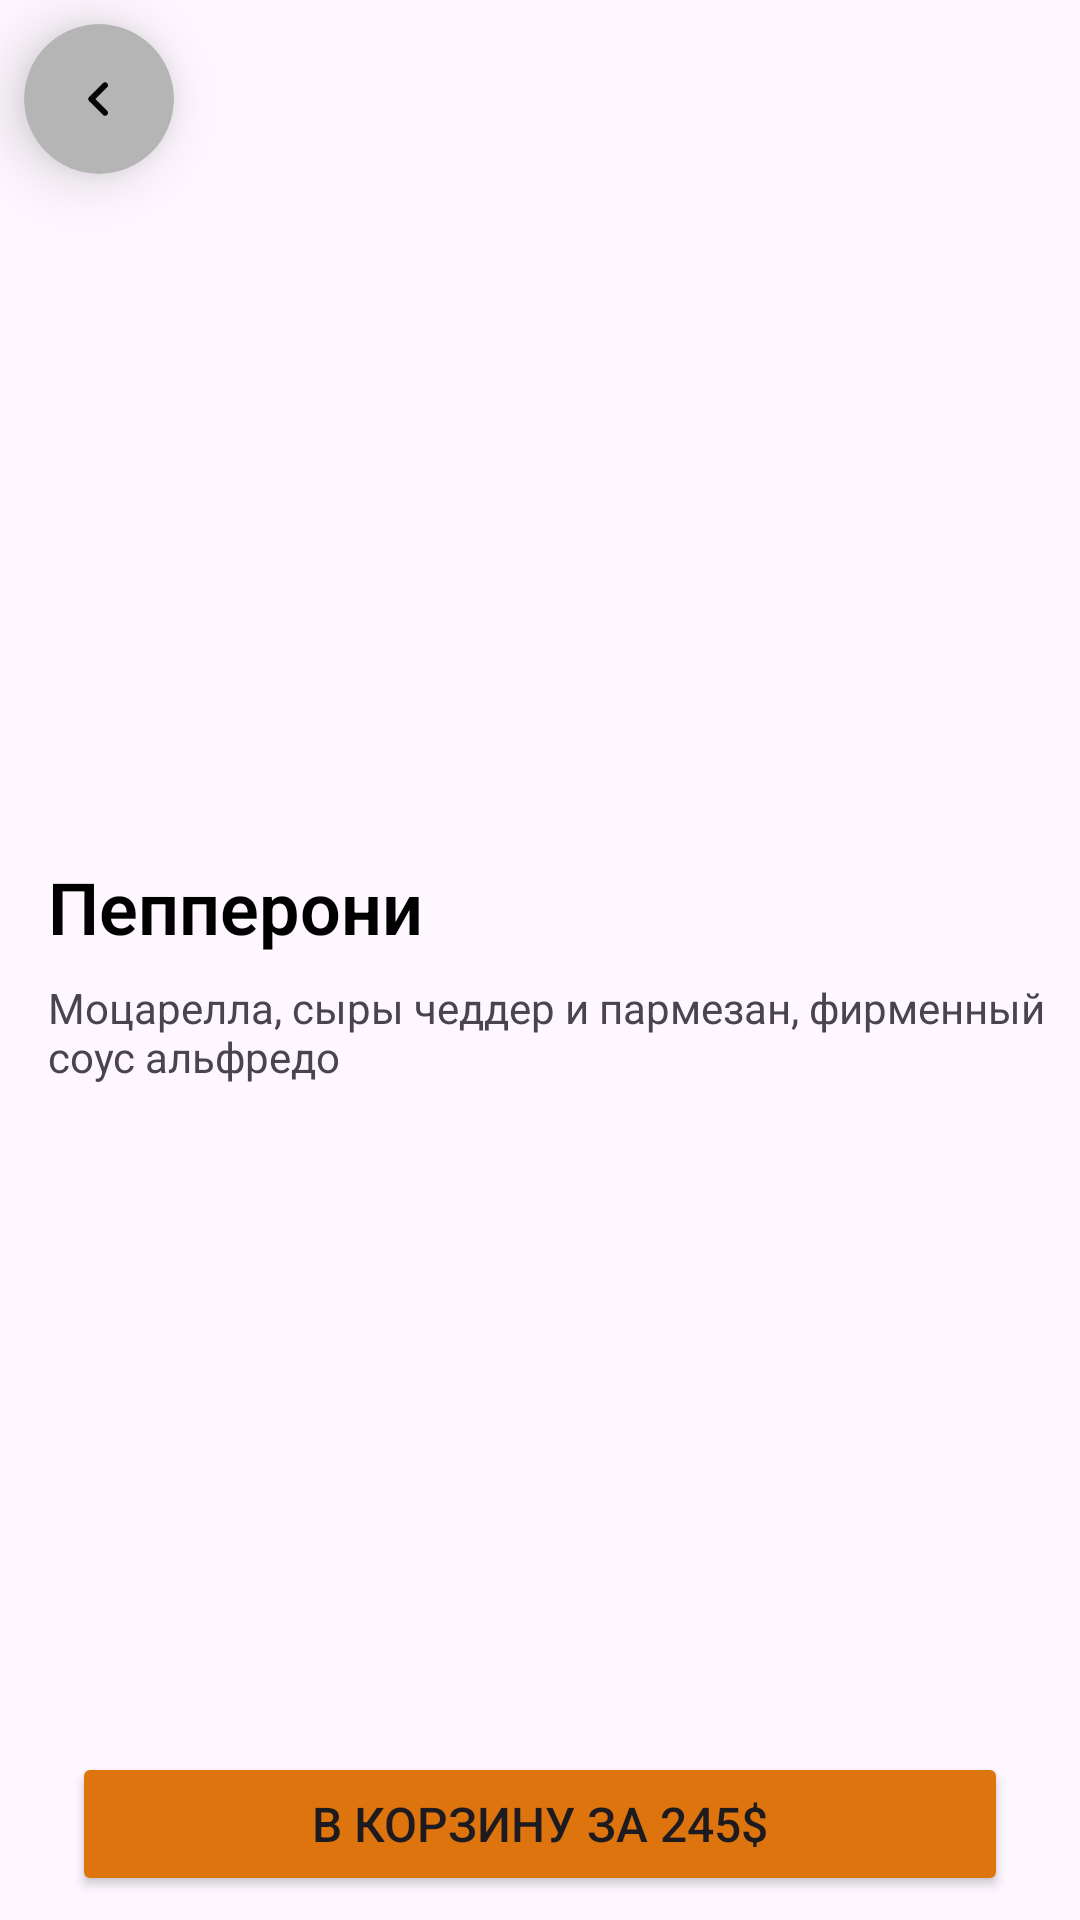

Icon click points for this 1080w x 1920h phone screenshot, format point (x, y):
arrow back: point (98, 99)
